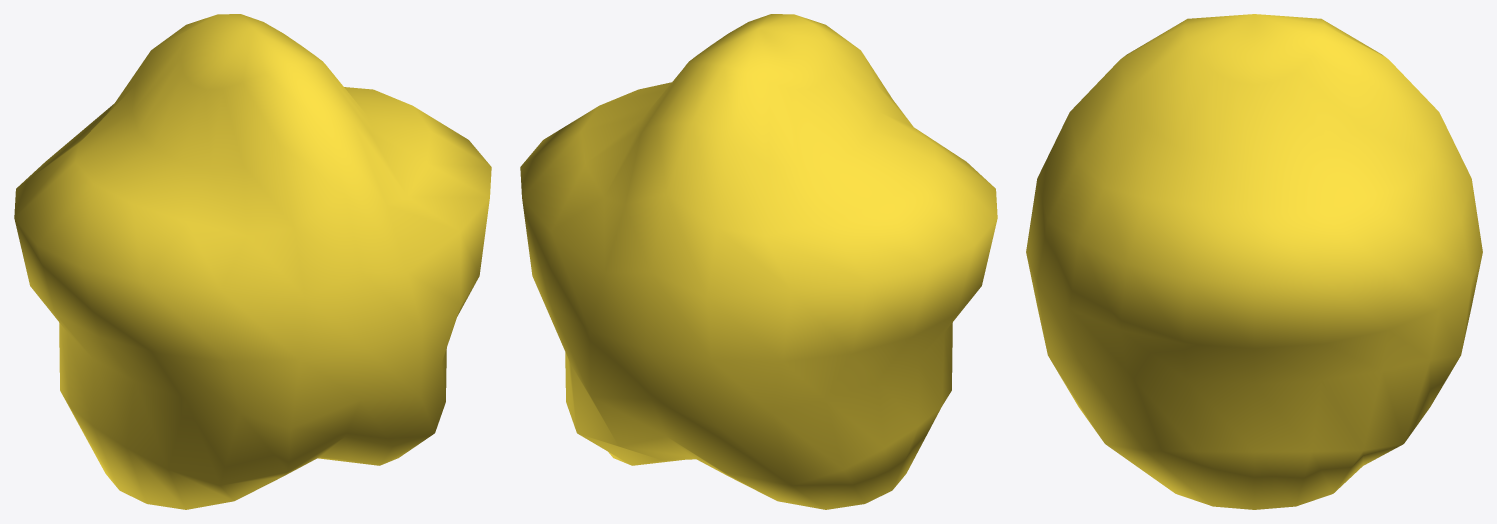
Rendered from Gem_Yellow.fbx.
3 views of the same model, side by side, from view 1: azimuth 30°, elevation 25°; view 2: azimuth 150°, elevation 25°; view 3: azimuth 270°, elevation 25° (orthographic).
Visible parts, largest first — view 1: Gem_Yellow; view 2: Gem_Yellow; view 3: Gem_Yellow.
Boxes of the visible parts, box(x1,y1,x2,y2) form: Gem_Yellow: box(14, 14, 491, 509); Gem_Yellow: box(520, 14, 997, 509); Gem_Yellow: box(1026, 14, 1482, 509).
Bounding box in the file's own units: 0.7656 × 0.7354 × 0.7.
